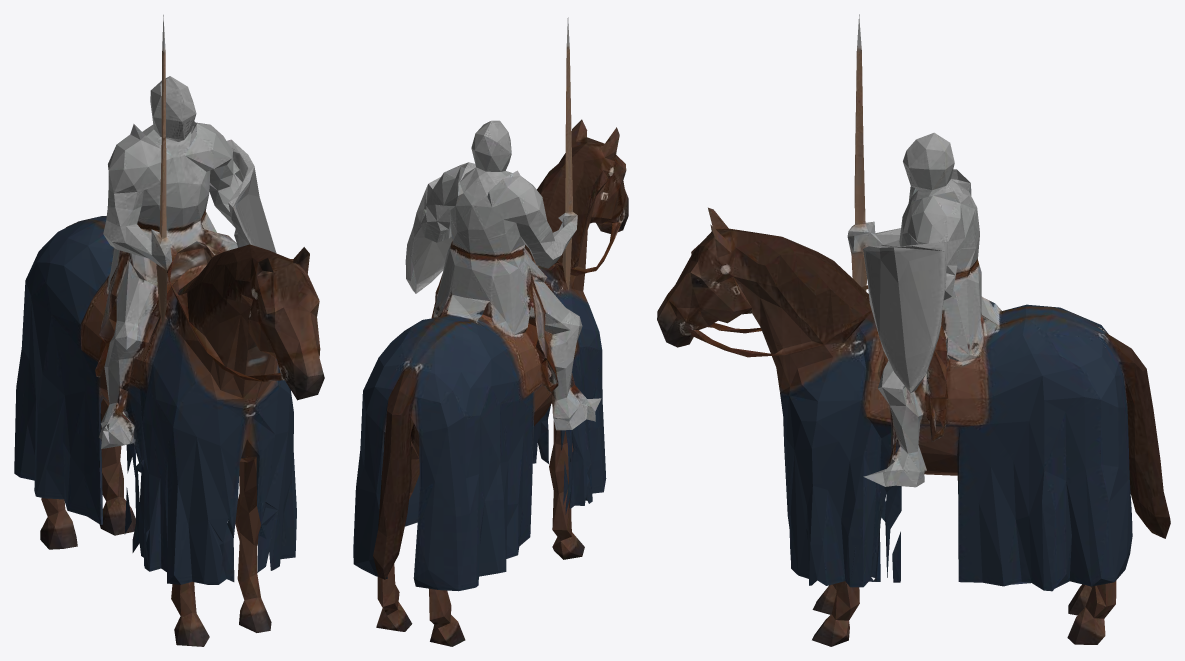
File: realistic-cc0.f77cec64a90b.knight.glb
3 views of the same model, side by side, from view 1: azimuth 30°, elevation 25°; view 2: azimuth 150°, elevation 25°; view 3: azimuth 270°, elevation 25° (orthographic). The views are drawn at different scales.
Visible parts, largest first — view 1: knight; view 2: knight; view 3: knight.
Part boxes in pixels (left/top/right/bottom): knight: left=14, top=15, right=324, bottom=646; knight: left=353, top=17, right=628, bottom=646; knight: left=657, top=14, right=1170, bottom=646.
Bounding box in the file's own units: 0.9946 × 3.04 × 2.4.
Materials: 1 (1 with a texture image).
